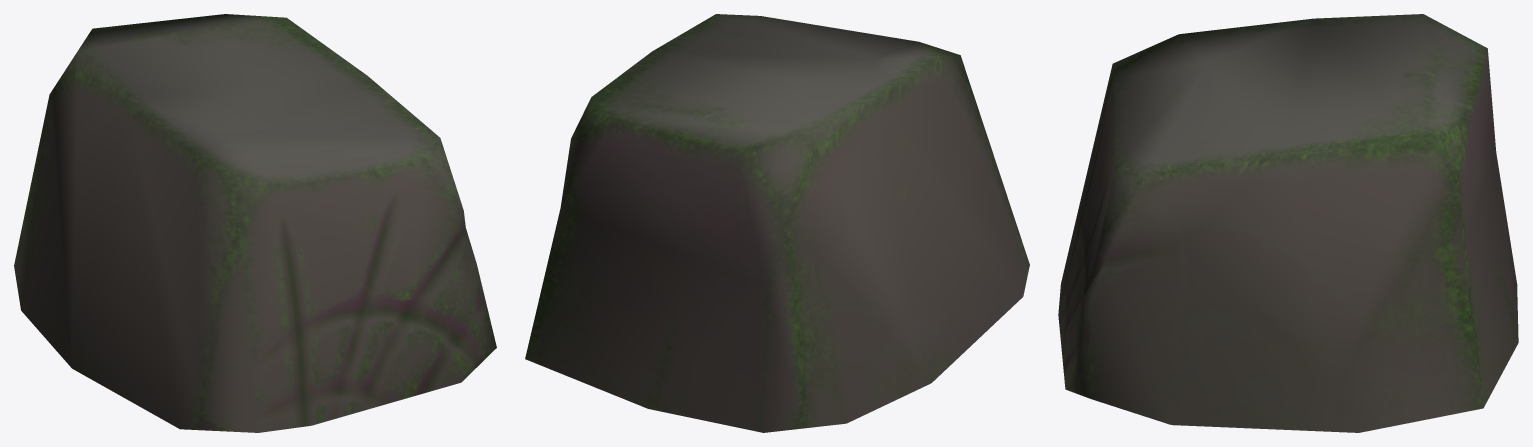
The model's file is Outdoor_prop_stones_04.FBX.
The picture shows the model from 3 angles, left to right: view 1: azimuth 30°, elevation 25°; view 2: azimuth 150°, elevation 25°; view 3: azimuth 270°, elevation 25°; orthographic projection. The views are drawn at different scales.
Parts seen in each view (by area): view 1: Outdoor_prop_stones_04; view 2: Outdoor_prop_stones_04; view 3: Outdoor_prop_stones_04.
Part boxes in pixels (<box>): Outdoor_prop_stones_04: <box>14,14,496,432</box>; Outdoor_prop_stones_04: <box>525,14,1029,432</box>; Outdoor_prop_stones_04: <box>1058,14,1518,432</box>.
Bounding box in the file's own units: 60.1 × 68.5 × 45.67.
